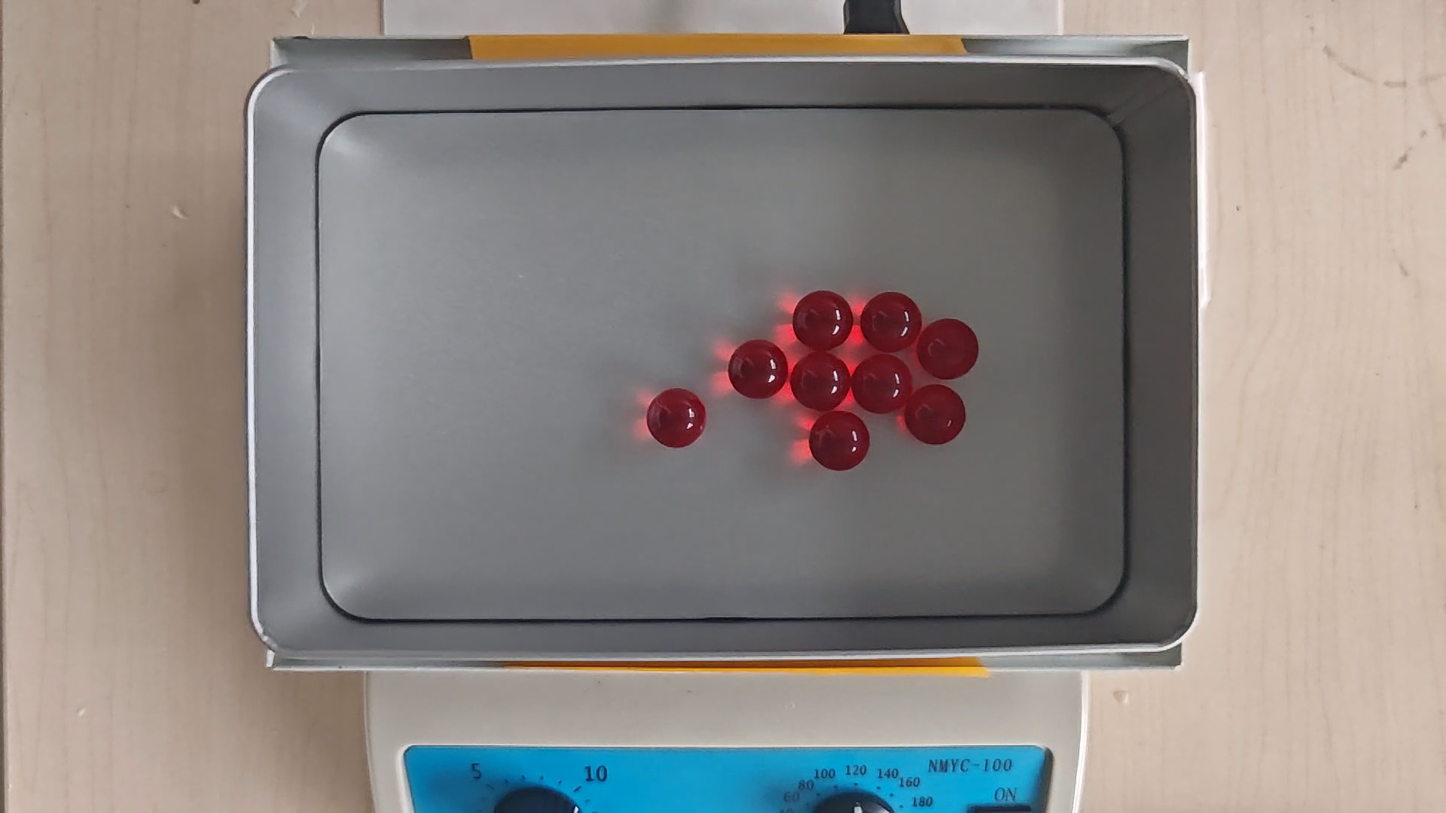ball: (906, 384, 967, 447), (809, 411, 870, 472), (647, 388, 707, 450), (918, 318, 978, 380), (861, 291, 921, 353), (792, 290, 852, 351), (728, 339, 788, 400), (853, 355, 912, 414), (793, 351, 850, 410)
container: (318, 107, 1126, 620)
